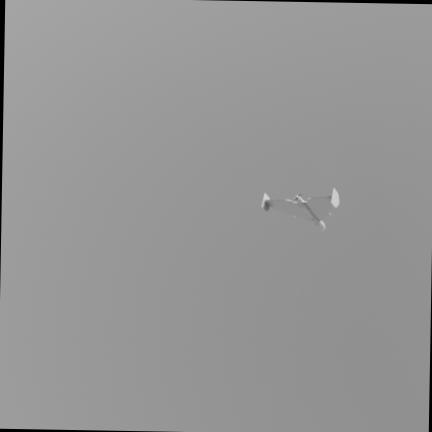Shahed: (261, 188, 338, 230)
